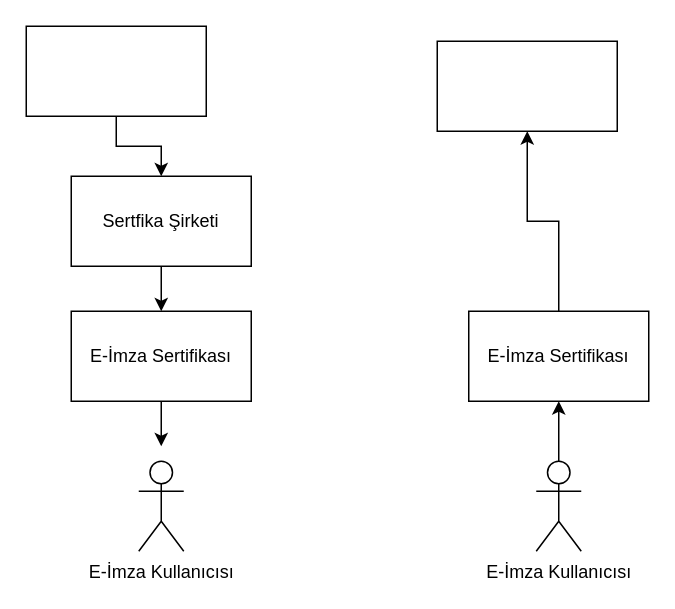
This 675x609 diagram has some shape labels left out. The centre of each missing label's shape, as x and y in pixels:
Blokzincir: [526,85]
Sertifika Otoritesi: [115,70]
